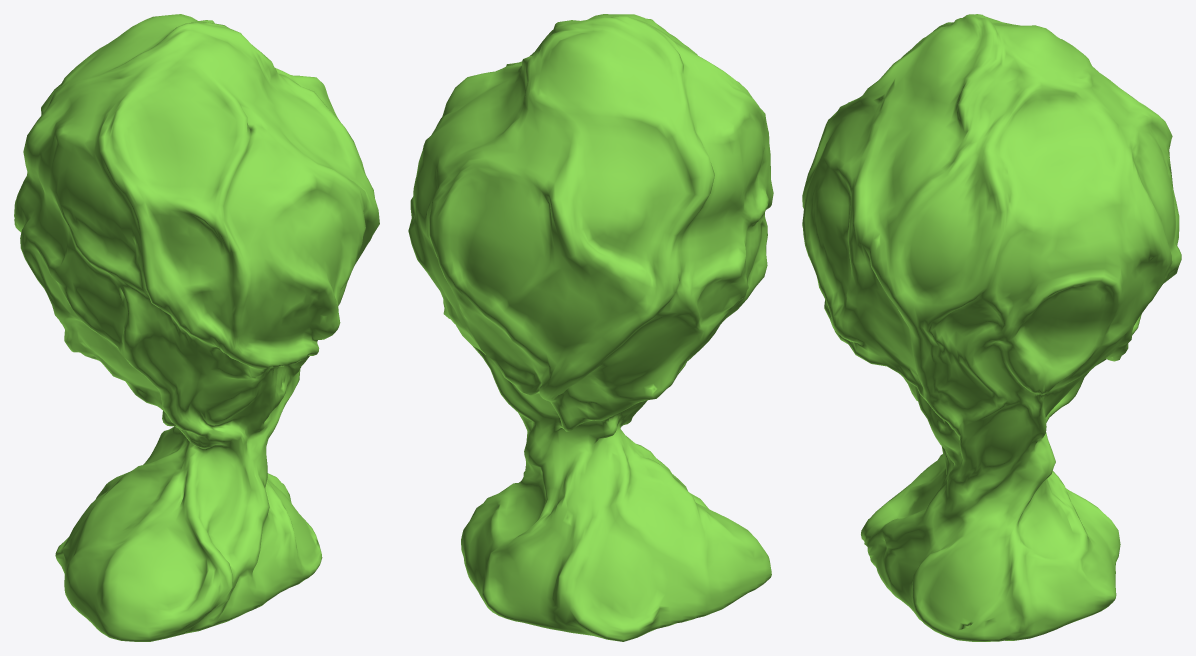
3 views of the same model, side by side, from view 1: azimuth 30°, elevation 25°; view 2: azimuth 150°, elevation 25°; view 3: azimuth 270°, elevation 25° (orthographic).
Parts seen in each view (by area): view 1: veinslow; view 2: veinslow; view 3: veinslow.
Part boxes in pixels (left/top/right/bottom): veinslow: left=14, top=14, right=379, bottom=641; veinslow: left=408, top=14, right=773, bottom=641; veinslow: left=802, top=14, right=1181, bottom=641.
Bounding box in the file's own units: 48.01 × 85.46 × 52.27.
